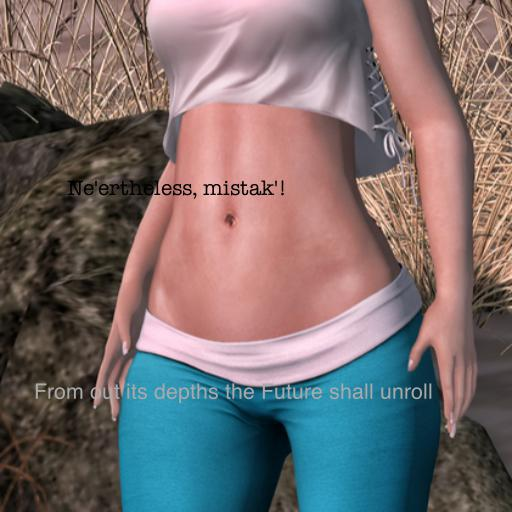American Typewriter: (67, 180, 287, 199)
Impact: (33, 383, 433, 404)
